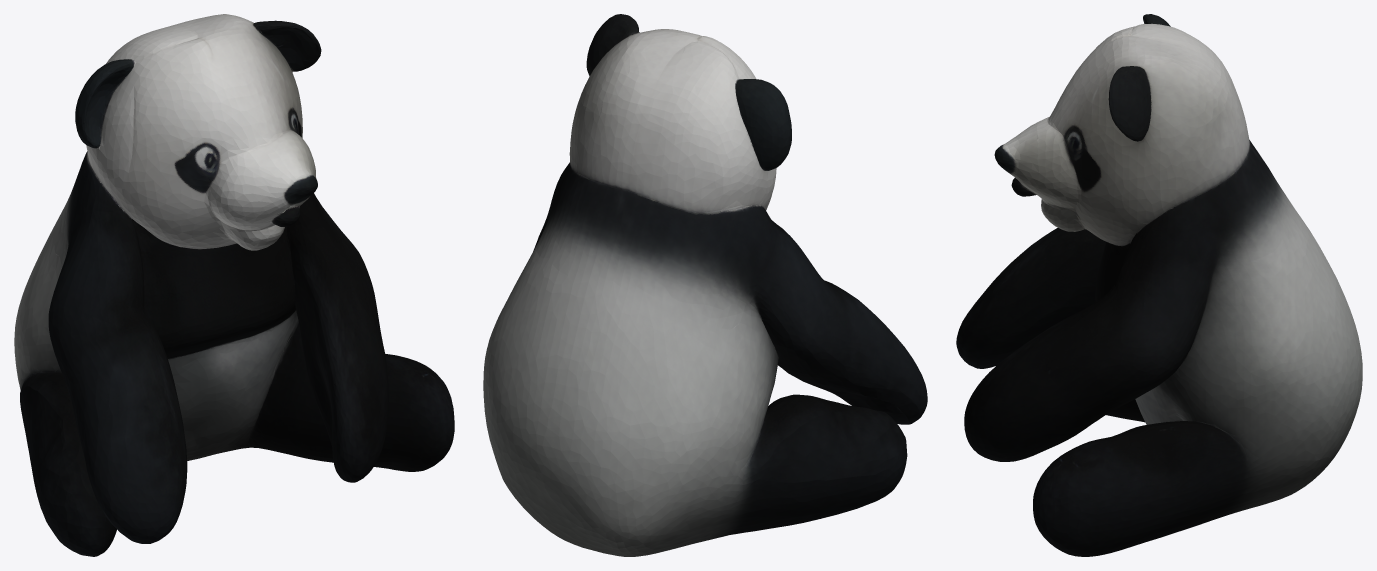
3 views of the same model, side by side, from view 1: azimuth 30°, elevation 25°; view 2: azimuth 150°, elevation 25°; view 3: azimuth 270°, elevation 25° (orthographic). The views are drawn at different scales.
Parts seen in each view (by area): view 1: world; view 2: world; view 3: world.
Part boxes in pixels (x1,y1,x2,y2): world: [14, 14, 454, 556]; world: [483, 14, 927, 556]; world: [956, 14, 1362, 556].
Bounding box in the file's own units: 0.121 × 0.136 × 0.1134.
Materials: 1 (1 with a texture image).
